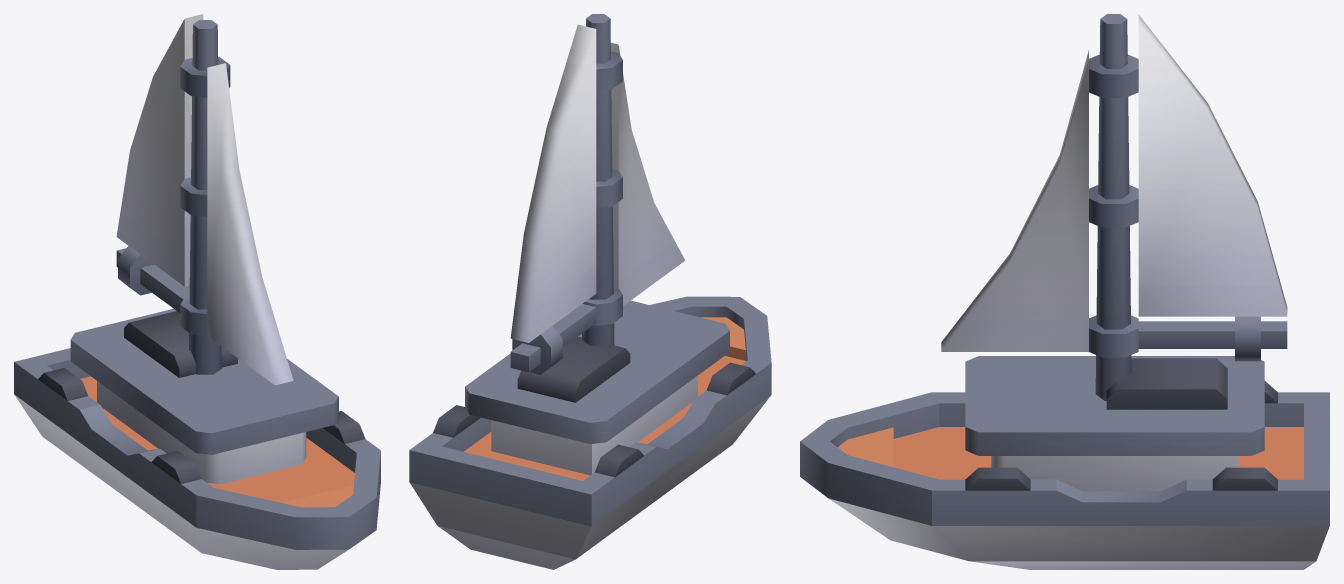
The model's file is boat-sail-b-transformed-transformed.glb.
3 views of the same model, side by side, from view 1: azimuth 30°, elevation 25°; view 2: azimuth 150°, elevation 25°; view 3: azimuth 270°, elevation 25° (orthographic). The views are drawn at different scales.
Visible parts, largest first — view 1: boat-sail-b, sail; view 2: boat-sail-b, sail; view 3: boat-sail-b, sail.
Part boxes in pixels (x1,y1,x2,y2): boat-sail-b: [14, 308, 380, 569]; sail: [116, 14, 293, 385]; boat-sail-b: [409, 296, 771, 569]; sail: [510, 14, 685, 374]; boat-sail-b: [800, 356, 1329, 569]; sail: [941, 14, 1287, 400].
Size of the model in its own units: 1.78 by 4.48 by 4.07.
Materials: 1 (1 with a texture image).
